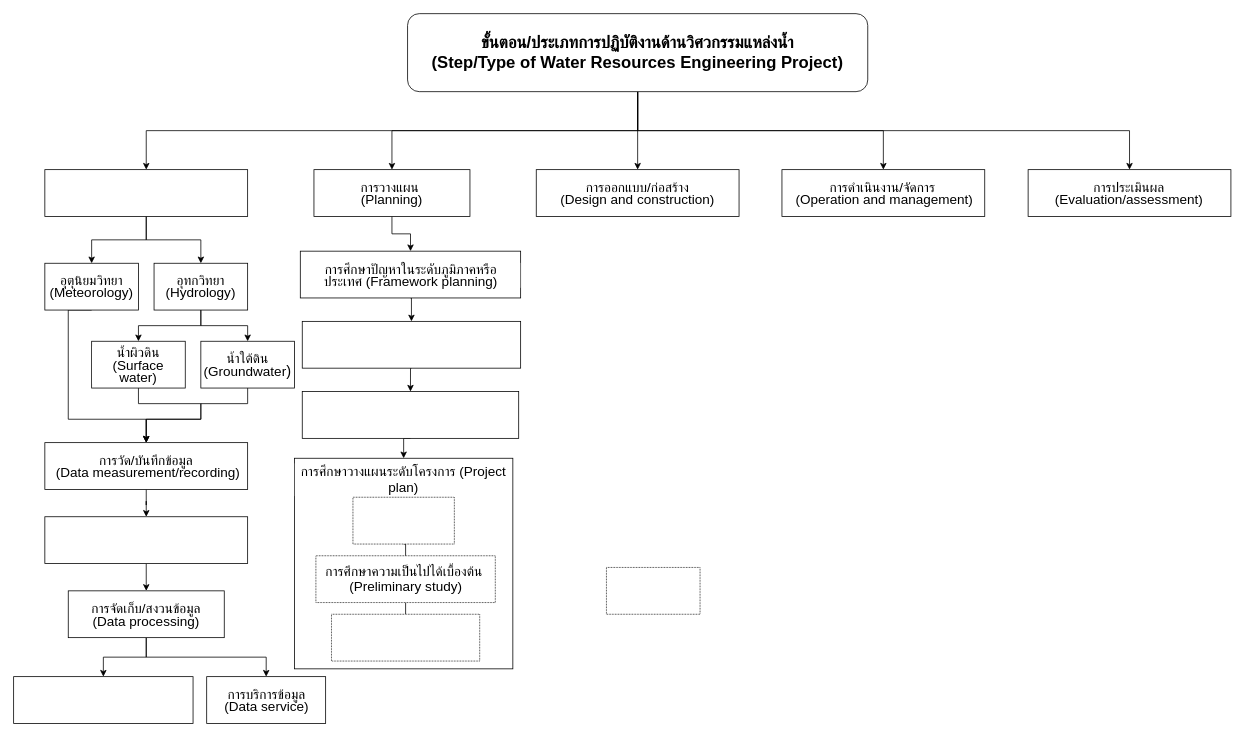
Image size: 1245x737. Some labels were removed from this diagram. The centre of each missing label's shape, as x and y in pixels:
"การจัดส่ง/ตรวจสอบข้อมูล (Data transfer and verification)" belongs at pixel 146 540.
"การวิเคราะห์ข้อมูลในเชิงประยุกต์ (Applied data analysis)" belongs at pixel 103 699.
"การศึกษาความเหมาะสม (Feasibility study)" belongs at pixel 405 637.
"การศึกษาศักยภาพในระดับภูมิภาคหรือลุ่มน้ำ (Regional/ river basin planning)" belongs at pixel 411 344.
"การศึกษาเริ่มต้น (Desk study)" belongs at pixel 403 520.
"การศึกษาแผนแม่บทสำหรับการพัฒนา (Master plan/basin plan)" belongs at pixel 410 414.
"การเก็บวิเคราะห์ข้อมูล (Data collection and analyses)" belongs at pixel 146 192.
